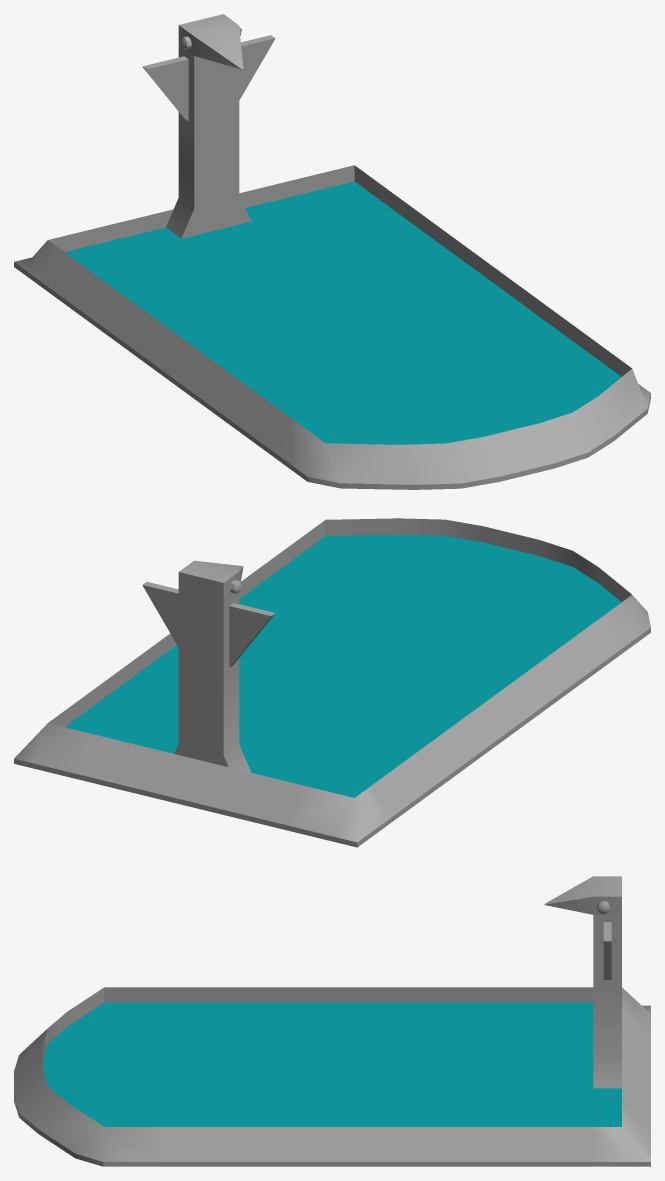
The model's file is Birdbath_v004.fbx.
The picture shows the model from 3 angles, top to bottom: view 1: azimuth 30°, elevation 25°; view 2: azimuth 150°, elevation 25°; view 3: azimuth 270°, elevation 25°; orthographic projection. The views are drawn at different scales.
Parts seen in each view (by area): view 1: WaterLayer, Fountain; view 2: WaterLayer, Fountain; view 3: WaterLayer, Fountain.
Part boxes in pixels (box(x1,y1,x2,y2)): WaterLayer: box(64, 181, 621, 444); Fountain: box(14, 14, 650, 489); WaterLayer: box(64, 534, 621, 797); Fountain: box(14, 518, 650, 847); WaterLayer: box(43, 1002, 621, 1126); Fountain: box(14, 876, 650, 1166).
Size of the model in its own units: 8.44 by 5.09 by 14.54.
